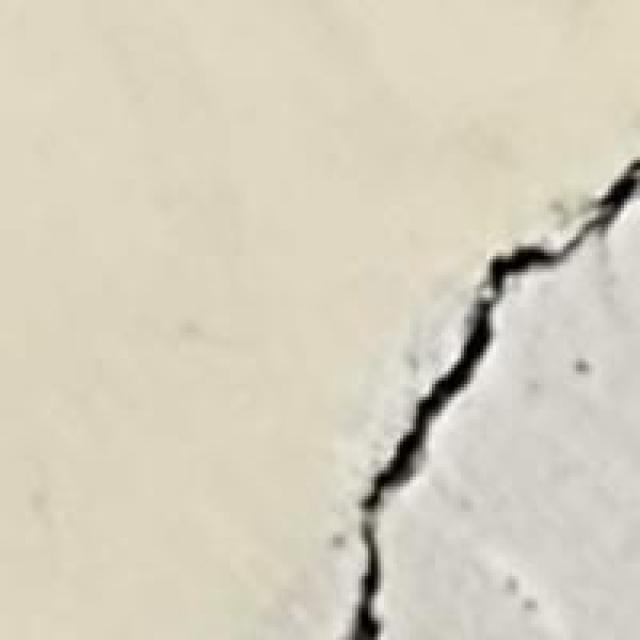crack: (339, 150, 637, 637)
